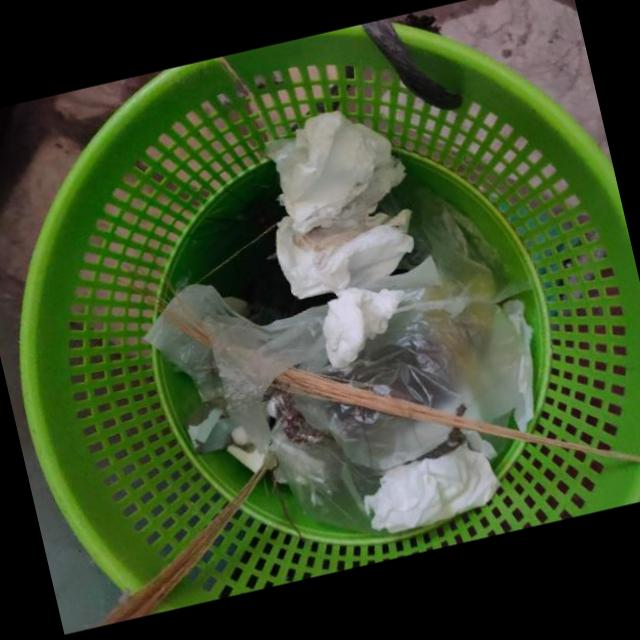giay: (265, 110, 406, 252), (275, 209, 438, 299), (363, 435, 501, 534), (322, 287, 425, 375)
tui_ni_long: (148, 218, 534, 533)
